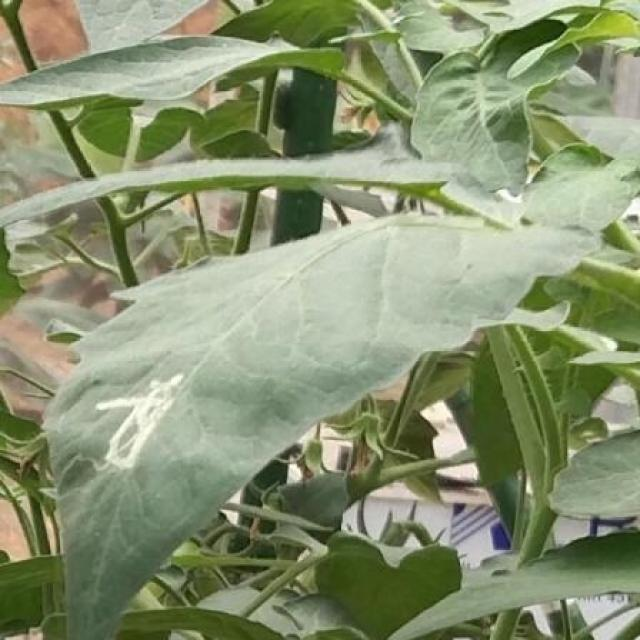Leaf Miner: (45, 204, 604, 640)
